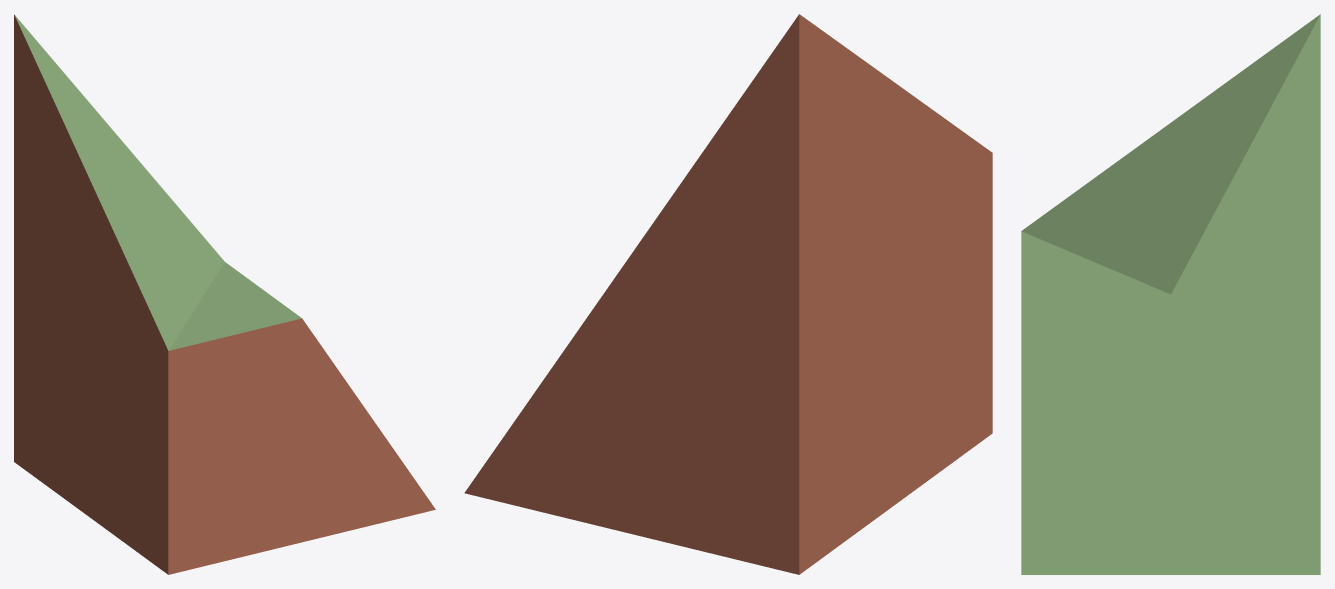
Rendered from Cenarios.fbx_Grounds_Inclinados_8X.fbx.
The picture shows the model from 3 angles, left to right: view 1: azimuth 30°, elevation 25°; view 2: azimuth 150°, elevation 25°; view 3: azimuth 270°, elevation 25°; orthographic projection. The views are drawn at different scales.
Visible parts, largest first — view 1: Ground.Inclinado V3.1 8X, Ground.Inclinado V2 8X, Ground.Inclinado V4 8X, Ground.Inclinado V3 8X; view 2: Ground.Inclinado V2 8X, Ground.Inclinado V3.1 8X, Ground.Inclinado V3 8X, Ground.Inclinado V4 8X, Ground.Inclinado V6 8X, Ground.Inclinado V1.1 8X; view 3: Ground.Inclinado V3.1 8X, Ground.Inclinado V2 8X, Ground.Inclinado V1 8x, Ground.Inclinado V6 8X.
Boxes of the visible parts, x1,y1,x2,y2 form: Ground.Inclinado V3.1 8X: [14, 14, 434, 574]; Ground.Inclinado V2 8X: [14, 238, 435, 574]; Ground.Inclinado V4 8X: [14, 240, 258, 574]; Ground.Inclinado V3 8X: [14, 250, 166, 572]; Ground.Inclinado V2 8X: [464, 153, 992, 574]; Ground.Inclinado V3.1 8X: [465, 14, 992, 574]; Ground.Inclinado V3 8X: [632, 298, 990, 573]; Ground.Inclinado V4 8X: [799, 155, 990, 570]; Ground.Inclinado V6 8X: [465, 257, 989, 573]; Ground.Inclinado V1.1 8X: [465, 295, 798, 561]; Ground.Inclinado V3.1 8X: [1021, 14, 1320, 574]; Ground.Inclinado V2 8X: [1021, 231, 1320, 574]; Ground.Inclinado V1 8x: [1021, 296, 1320, 574]; Ground.Inclinado V6 8X: [1030, 294, 1320, 564].
Size of the model in its own units: 1000 by 1600 by 1000.
